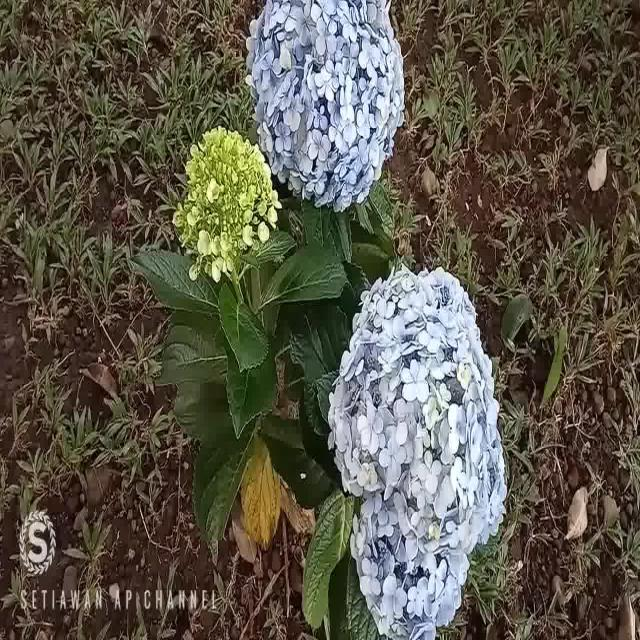Flower: (328, 256, 512, 640), (246, 1, 406, 215), (173, 119, 279, 293)
